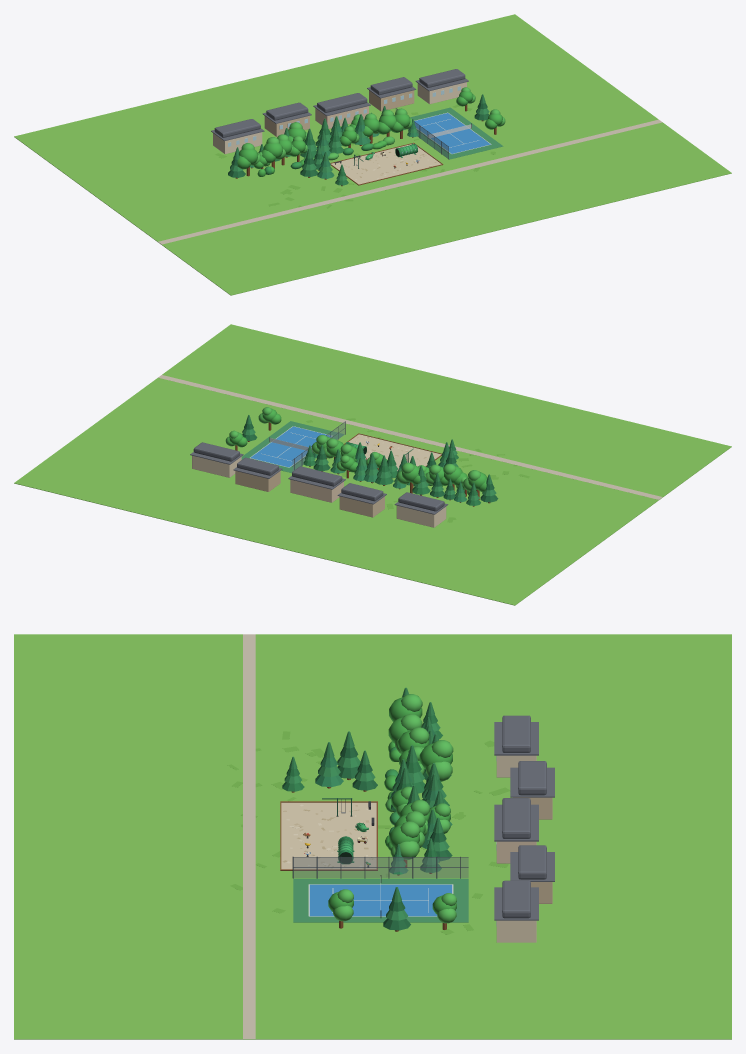
Rendered from playground.glb.
The picture shows the model from 3 angles, top to bottom: view 1: azimuth 30°, elevation 25°; view 2: azimuth 150°, elevation 25°; view 3: azimuth 270°, elevation 25°; orthographic projection. The views are drawn at different scales.
Parts seen in each view (by area): view 1: grass, court, pad, house_5, house_3, house_1, house_4, house_2, bushes, tree_3, tree_7; view 2: grass, court, house_3, house_1, pad, house_5, house_2, house_4, tree_12; view 3: grass, court, pad, house_5, house_3, house_1, house_2, house_4, tree_12, tree_27, bushes, tree_30 (+4 smaller).
Part boxes in pixels (<box>): grass: <box>14,14,731,295</box>; court: <box>395,107,503,159</box>; pad: <box>330,142,443,185</box>; house_5: <box>415,69,468,104</box>; house_3: <box>313,93,370,128</box>; house_1: <box>211,119,264,154</box>; house_4: <box>367,77,416,111</box>; house_2: <box>262,102,311,136</box>; bushes: <box>257,136,394,176</box>; tree_3: <box>237,143,260,176</box>; tree_7: <box>261,137,285,168</box>; grass: <box>14,324,731,605</box>; court: <box>241,421,345,472</box>; house_3: <box>288,466,345,502</box>; house_1: <box>394,492,448,527</box>; pad: <box>344,433,441,470</box>; house_5: <box>190,442,243,477</box>; house_2: <box>337,483,386,517</box>; house_4: <box>233,457,282,491</box>; tree_12: <box>396,462,426,493</box>; grass: <box>14,634,731,1039</box>; court: <box>292,856,468,922</box>; pad: <box>280,801,377,870</box>; house_5: <box>494,880,538,942</box>; house_3: <box>494,798,538,863</box>; house_1: <box>494,715,538,777</box>; house_2: <box>510,761,554,819</box>; house_4: <box>510,845,554,903</box>; tree_12: <box>419,740,453,781</box>; tree_27: <box>389,821,420,867</box>; bushes: <box>384,741,401,856</box>; tree_30: <box>315,742,343,788</box>.
Bounding box in the file's own units: 120 × 7.61 × 90.
